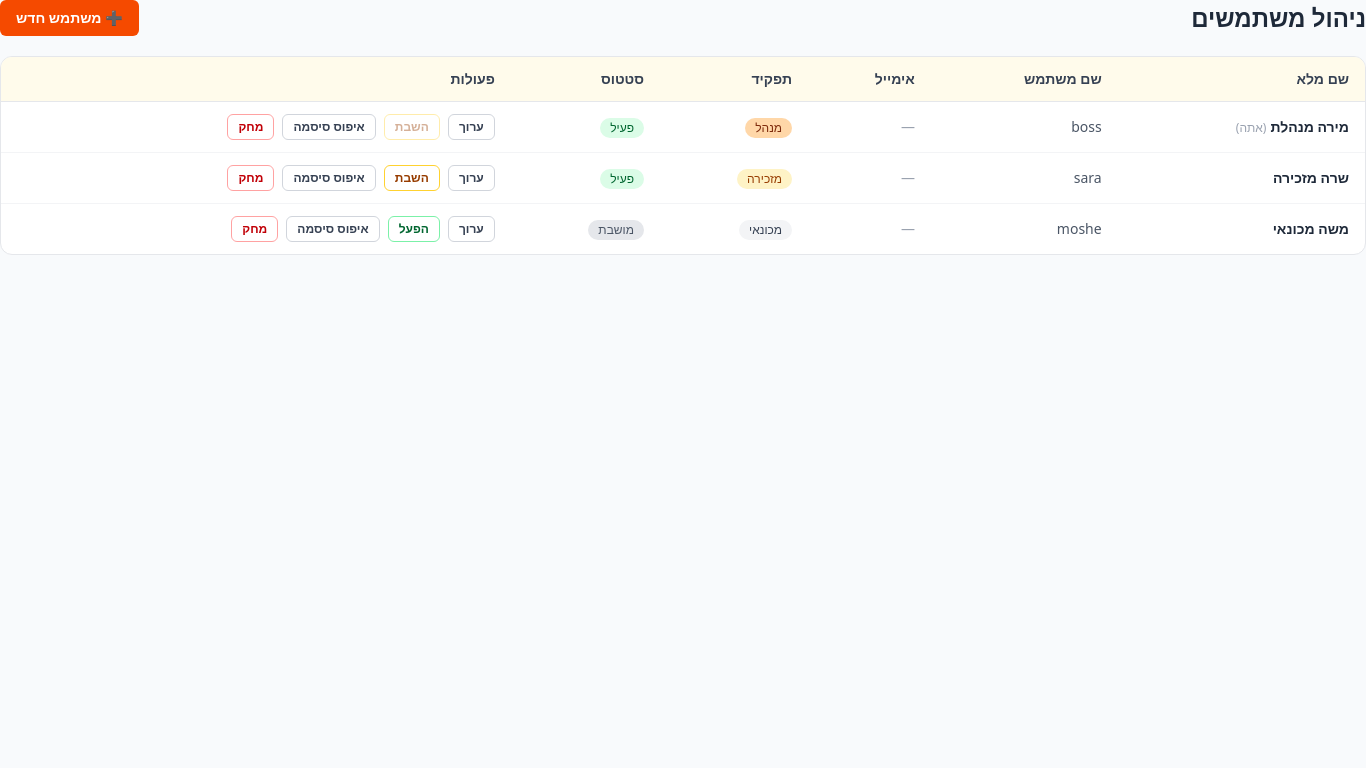
UsersPage — delete user › requires confirmation before deleting and then refetches
Expected: the table named "טבלת משתמשים" is shown, top-left (1, 57), bottom-right (1365, 254)
Click the button "מחק" in the row of "שרה מזכירה": (251, 178) top-left (228, 165), bottom-right (274, 191)
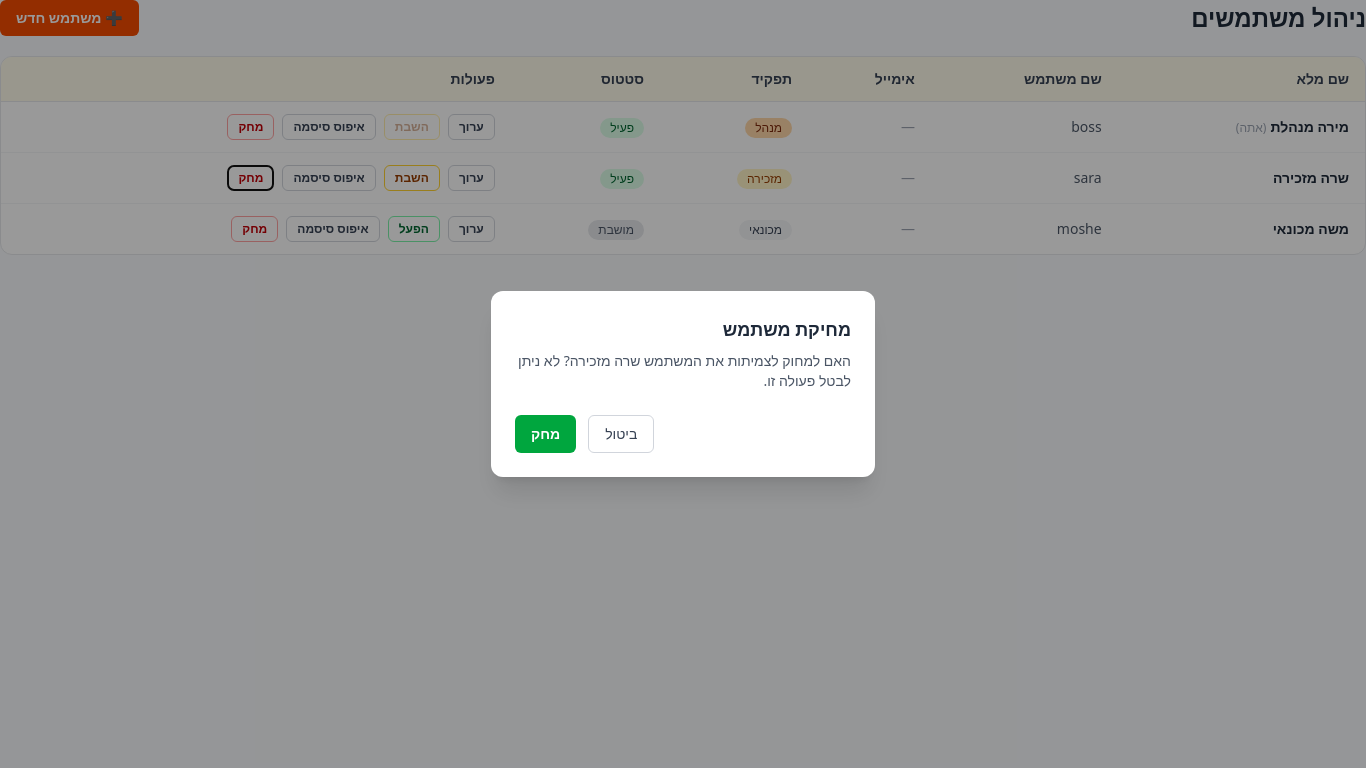
Click the button "מחק": (546, 434) top-left (515, 415), bottom-right (576, 453)
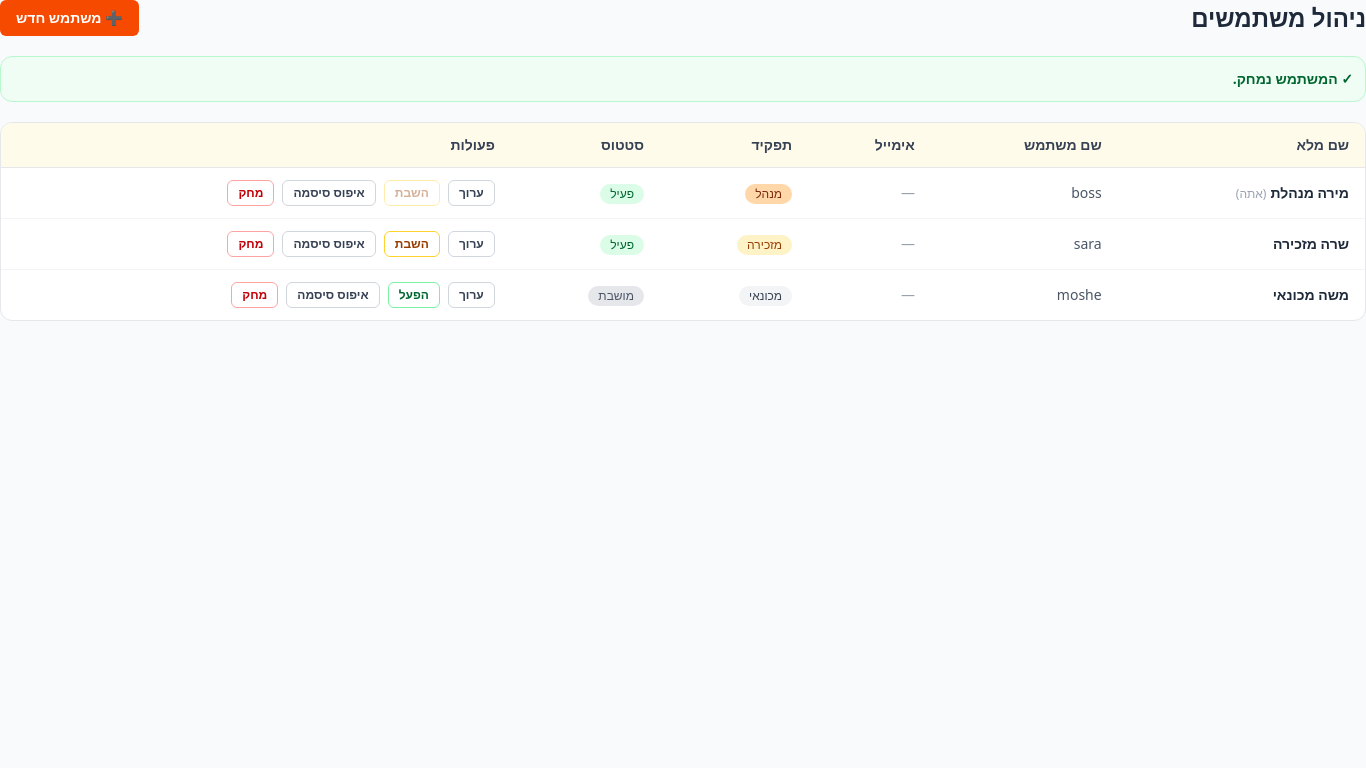
Expected: the text "✓ המשתמש נמחק." is shown, top-left (0, 56), bottom-right (1365, 102)
